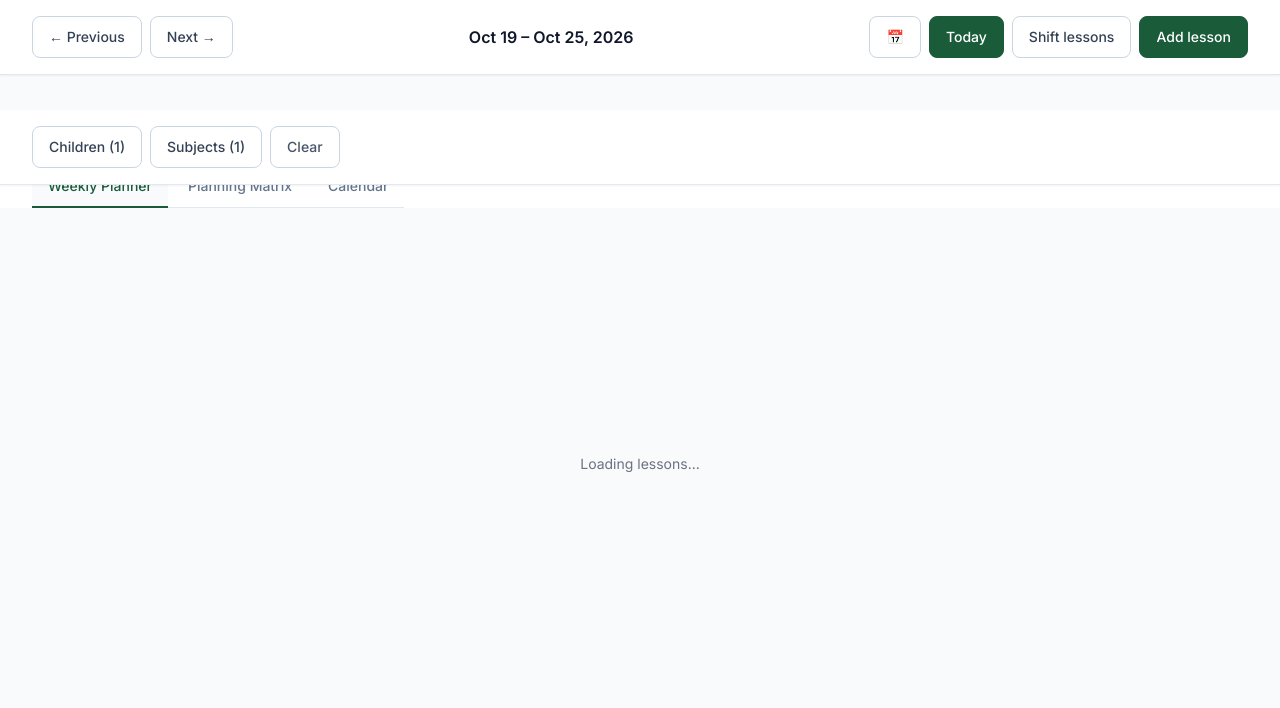
Test: WeeklyPlannerPage › opening Shift lessons closes the Add lesson form and vice versa
Click the button "Add lesson" at (1194, 37), box left=1139, top=16, right=1248, bottom=58
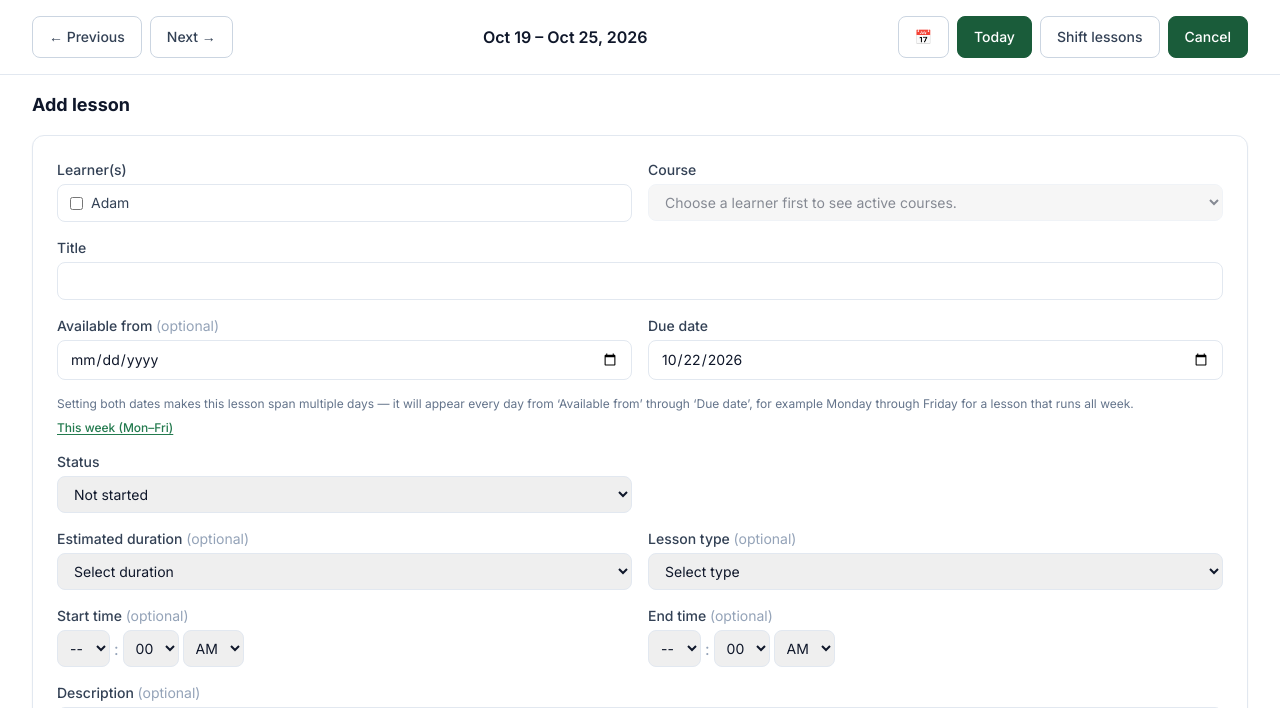
Expected: the heading "Add lesson" is shown, left=32, top=94, right=130, bottom=115
Click the button "Shift lessons" at (1100, 37), box left=1040, top=16, right=1160, bottom=58
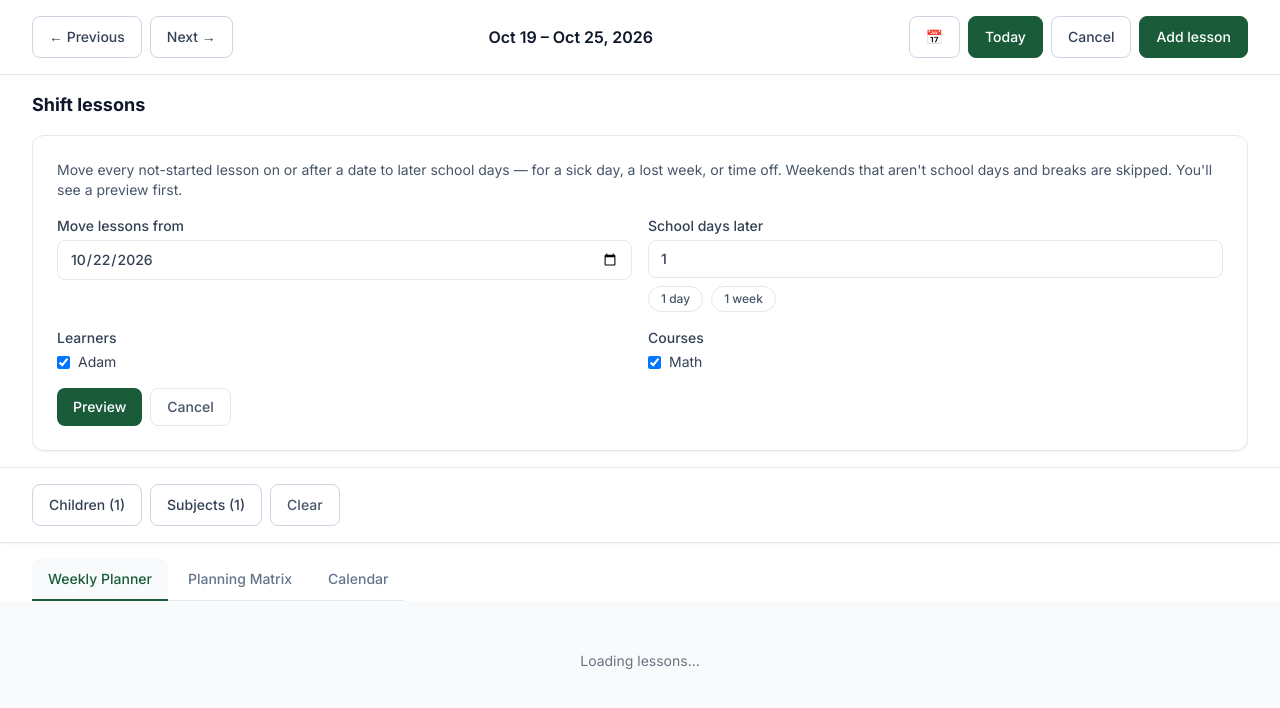
Expected: the element with test id "shift-lessons-panel" is shown, left=57, top=160, right=1223, bottom=426
